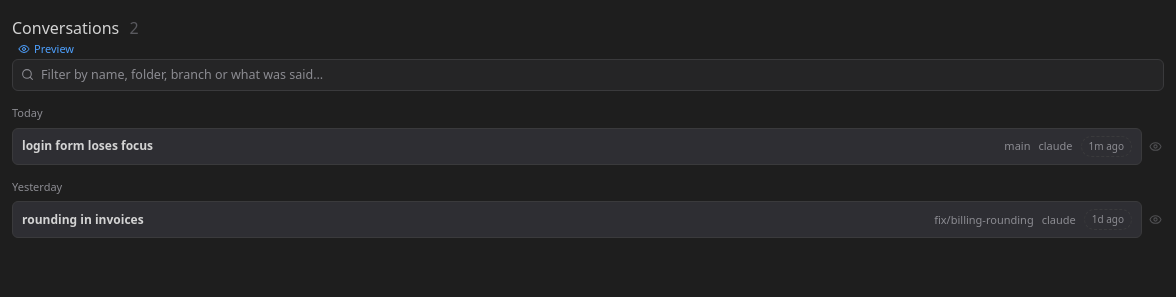
it: the preview › opens on a row from the row's own preview button
Click the button named "Preview rounding in invoices".
click(1155, 220)  # box [1146,211,1164,229]
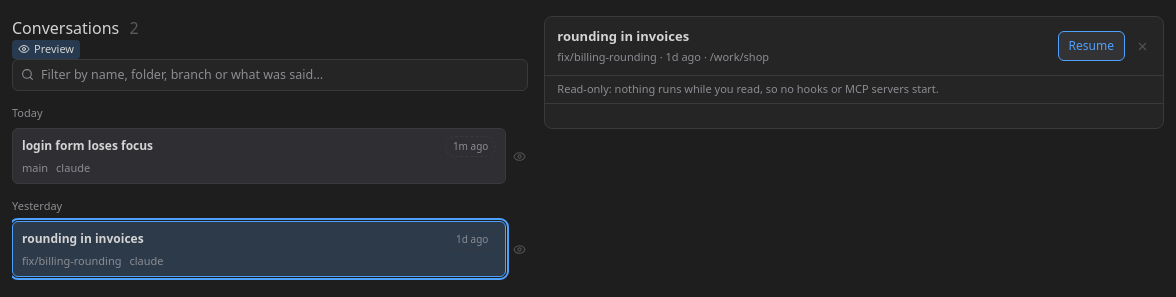
Now the heading "rounding in invoices" is shown, box [557,27,689,45]
